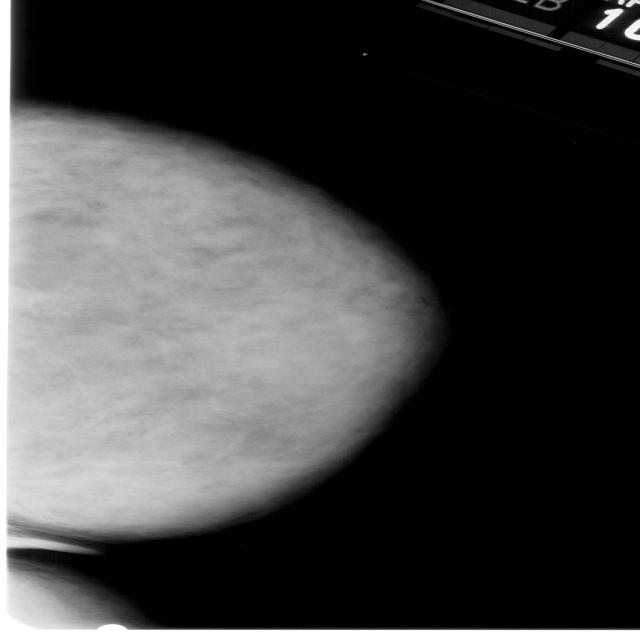normal: (0, 101, 464, 551)
